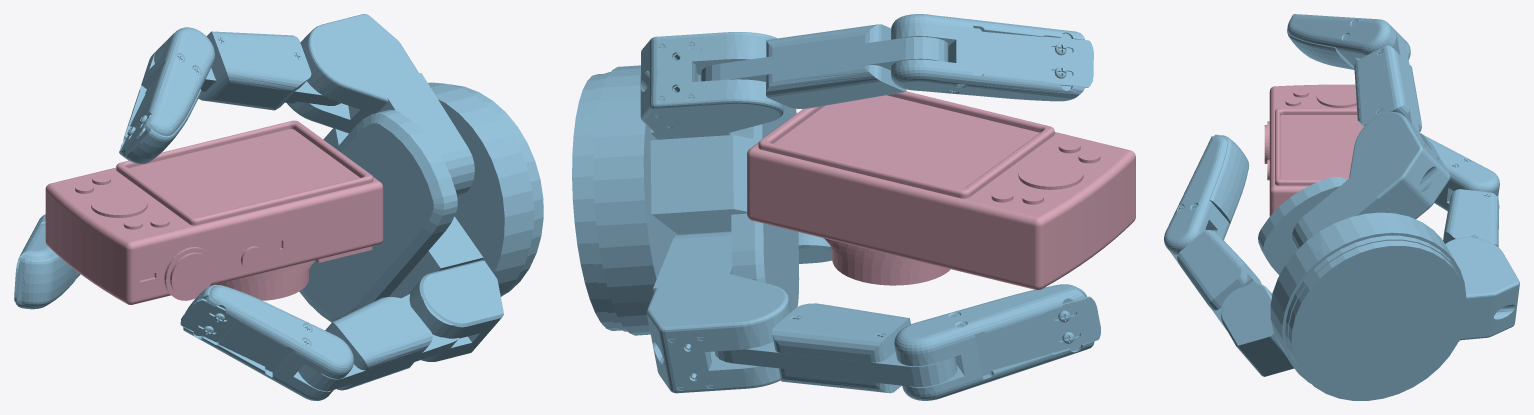
3 renders of one model, left to right at view 1: azimuth 30°, elevation 25°; view 2: azimuth 150°, elevation 25°; view 3: azimuth 270°, elevation 25°, orthographic. The views are drawn at different scales.
Visible parts, largest first — view 1: world, camera.stl; view 2: world, camera.stl; view 3: world, camera.stl.
Boxes of the visible parts, x1,y1,x2,y2 form: world: (14, 14, 543, 400); camera.stl: (45, 120, 383, 304); world: (572, 14, 1100, 400); camera.stl: (747, 91, 1135, 290); world: (1164, 14, 1519, 400); camera.stl: (1264, 84, 1363, 216).
Bounding box in the file's own units: 0.2073 × 0.1395 × 0.1634.
